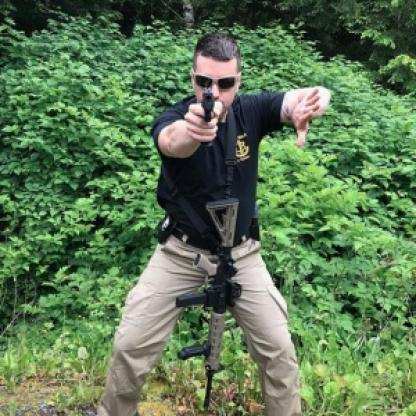Gun: (161, 188, 251, 409)
Pistol: (197, 89, 214, 118)
